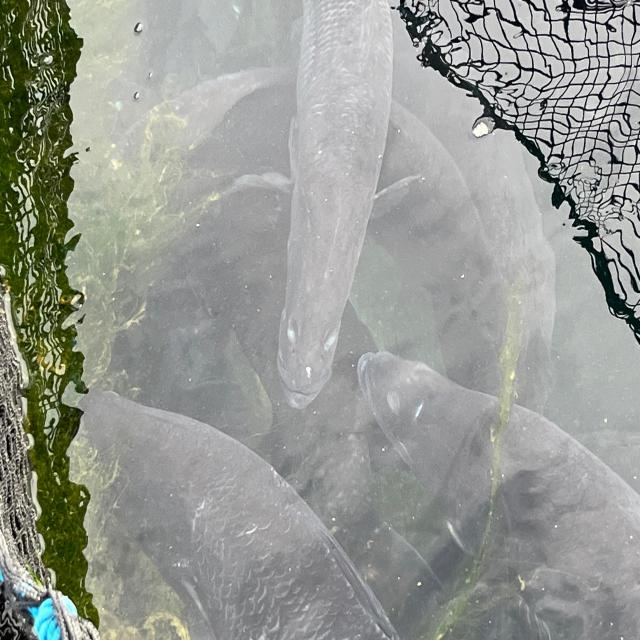ikan: (64, 388, 401, 638), (356, 348, 639, 638), (275, 0, 395, 410)
